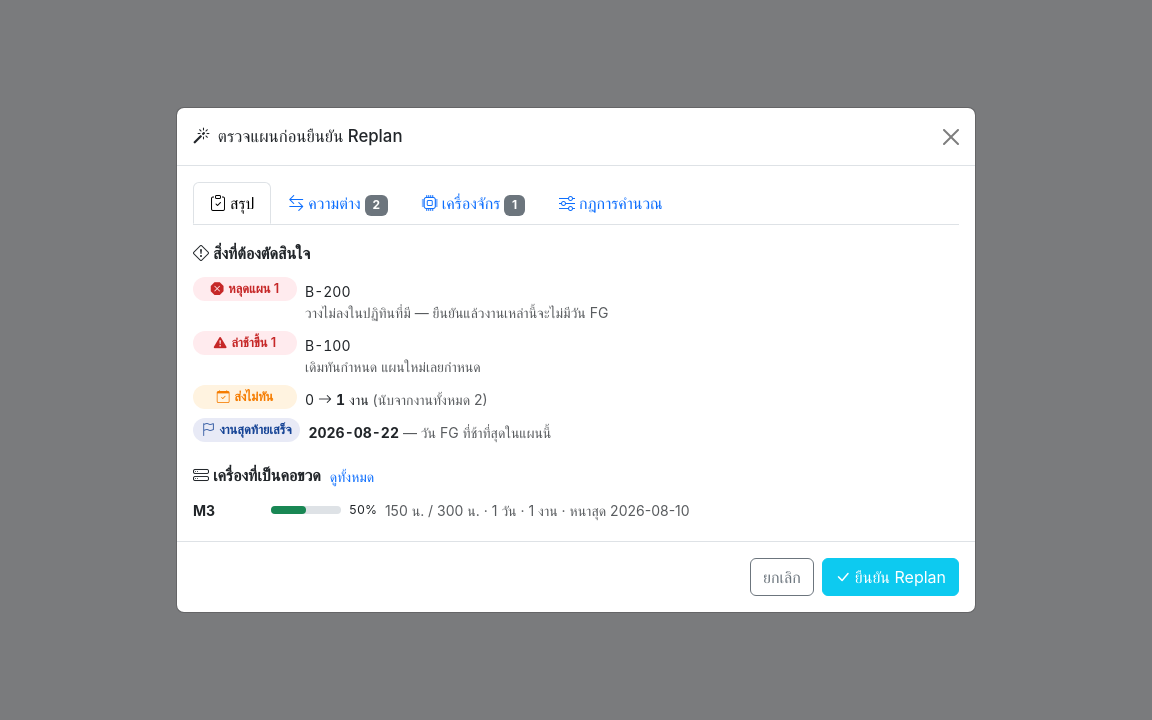
Test: PlanPreviewDialog — แท็บหลัก › แท็บเครื่องจักร: กางเครื่องแล้วเห็น batch + เวลา + model ที่ join มาจาก diff
Click the tab "เครื่องจักร 1".
click(473, 204)  # box [405,182,542,225]
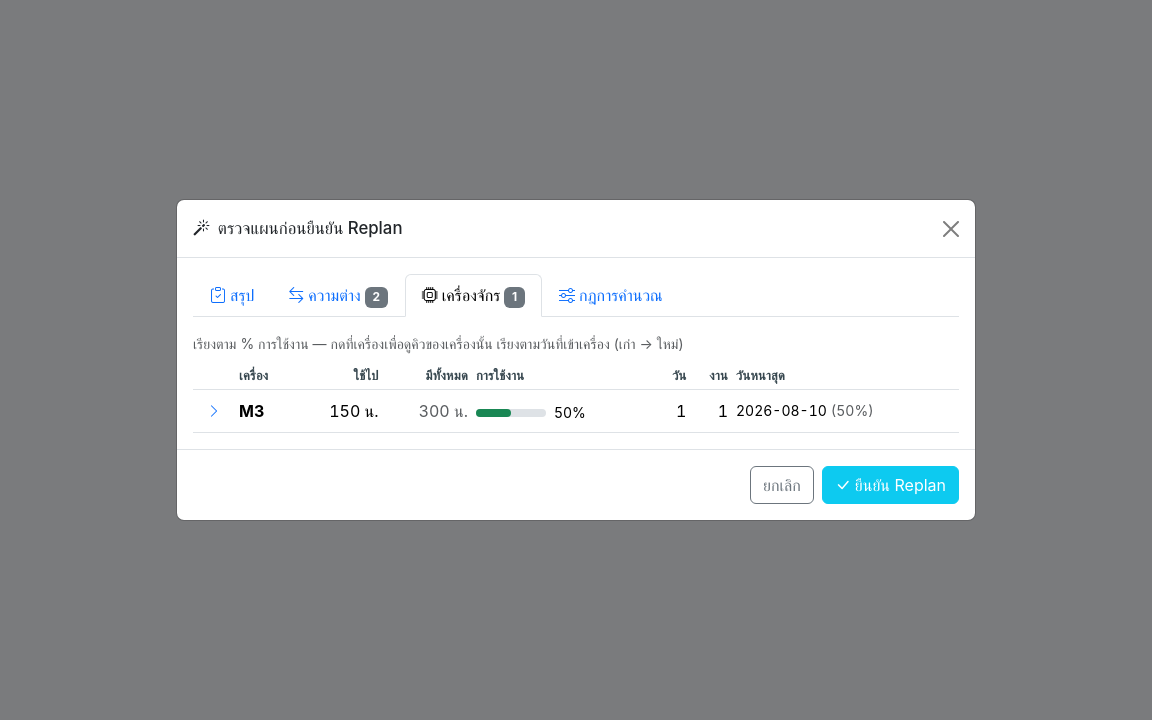
Expected: the text "M3" is shown, [235,389,293,432]
Click the button named "รายการงานของเครื่อง M3".
click(214, 411)  # box [197,394,231,428]
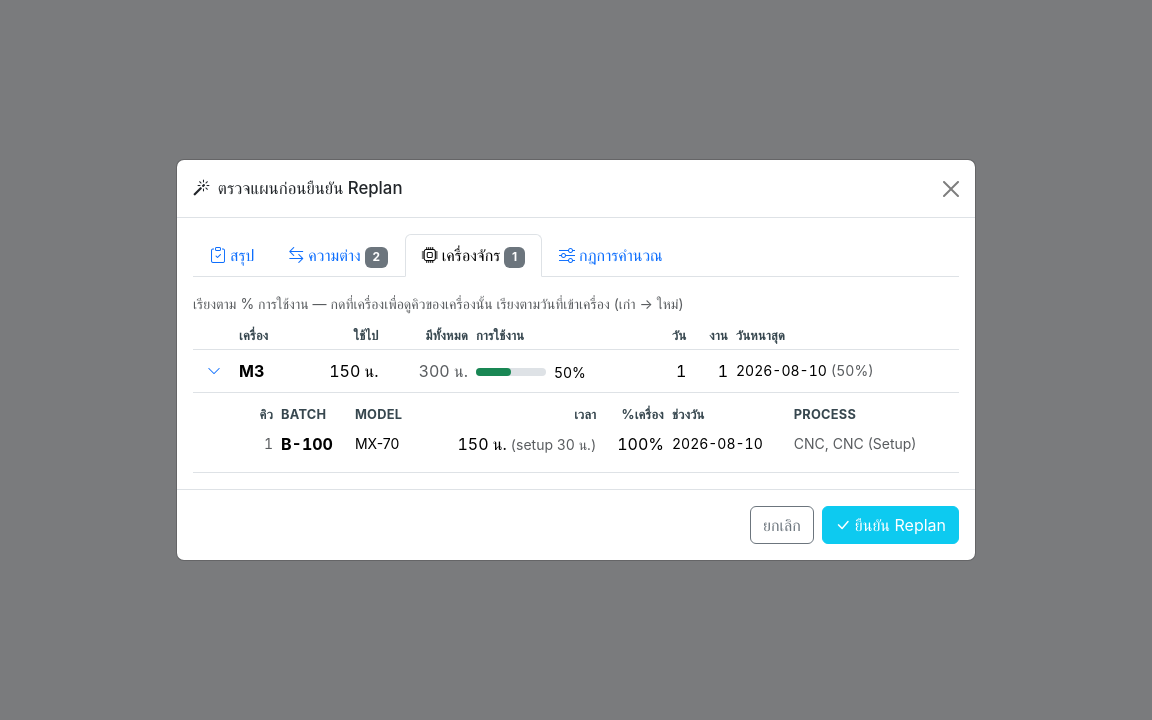
Expected: the text "MX-70" is shown, [351,428,419,460]
Expected: the text "100%" is shown, [600,428,668,460]
